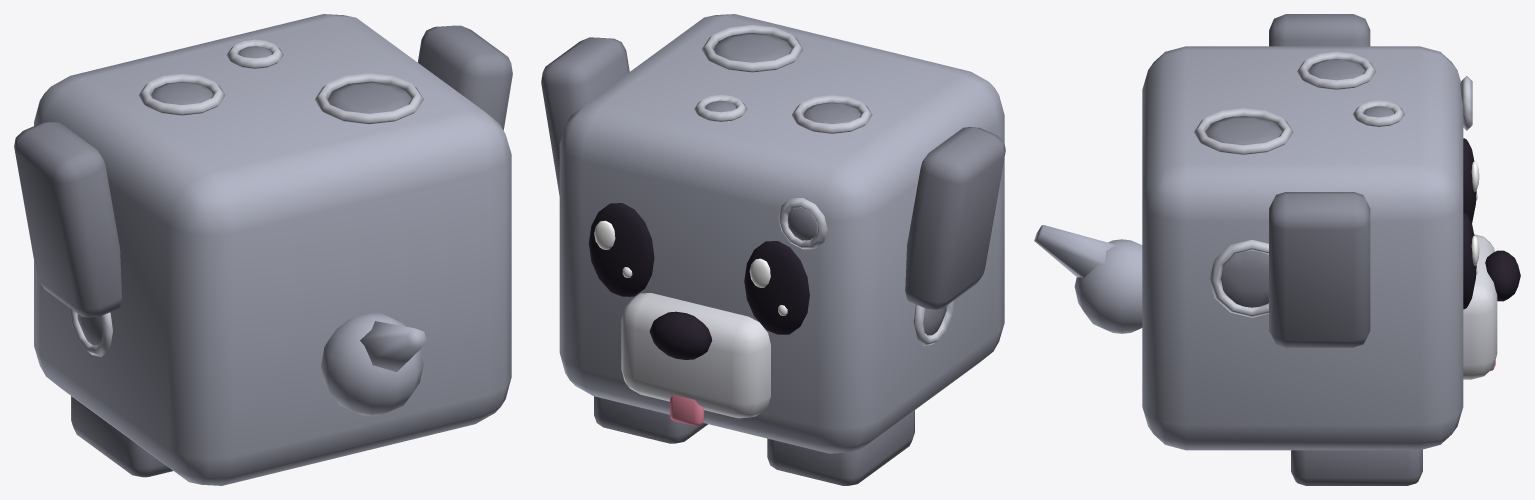
Rendered from pet_craterpup.fbx.
The picture shows the model from 3 angles, left to right: view 1: azimuth 30°, elevation 25°; view 2: azimuth 150°, elevation 25°; view 3: azimuth 270°, elevation 25°; orthographic projection. The views are drawn at different scales.
Parts seen in each view (by area): view 1: pet_craterpup; view 2: pet_craterpup; view 3: pet_craterpup.
Boxes of the visible parts, box(x1,y1,x2,y2) form: pet_craterpup: box(14, 14, 512, 485); pet_craterpup: box(541, 14, 1005, 485); pet_craterpup: box(1034, 14, 1520, 485).
Bounding box in the file's own units: 2.85 × 2.16 × 2.88.
Materials: 1 (1 with a texture image).
